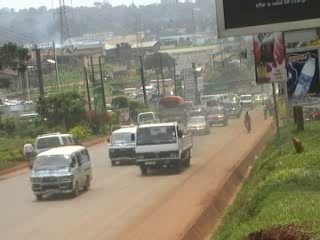Car: (184, 111, 210, 138), (204, 104, 228, 127), (223, 99, 241, 119), (238, 93, 256, 111), (252, 94, 263, 105)
